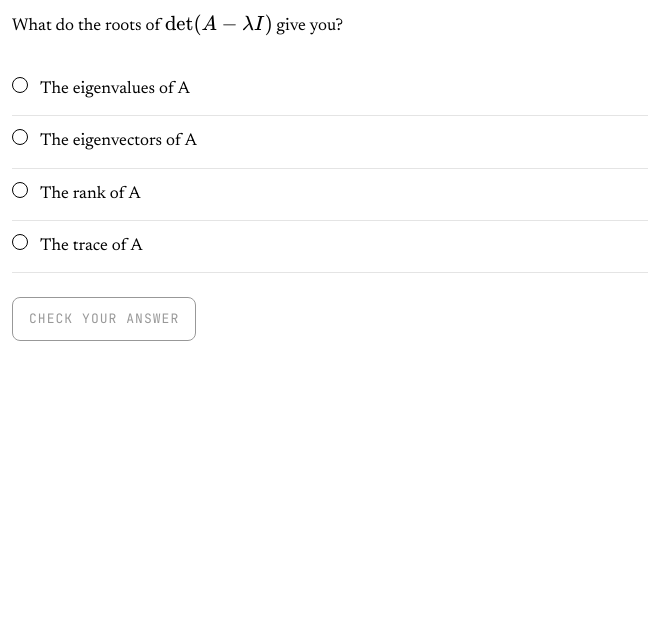
Test: MultipleChoiceArtefact › states the outcome in words and gives a reason for every option
The width and height of the screenshot is (665, 636).
Click the radio button labelled "The rank of A": [20, 190] box [12,182,28,198]
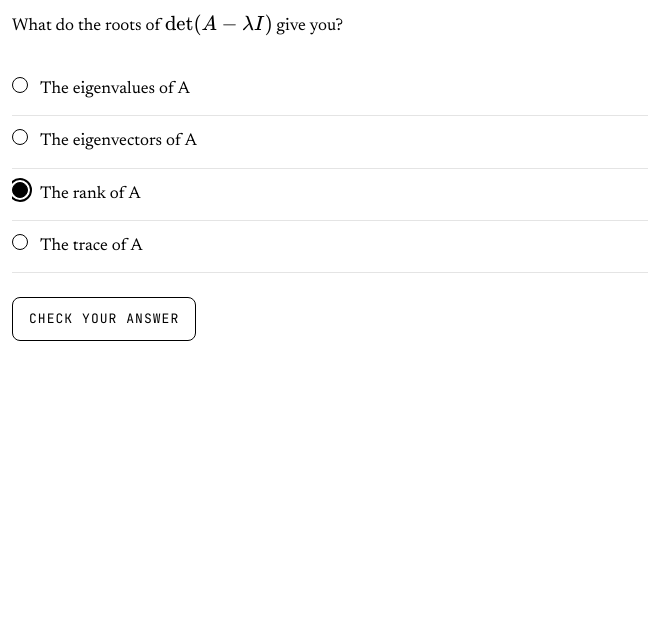
Click the button "Check your answer": [104, 319] box [12,297,196,341]
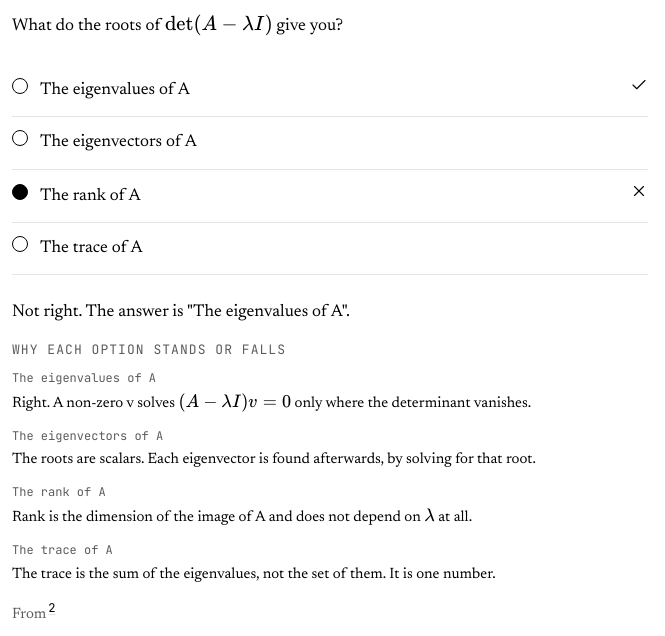
expect the text "only where the determinant vanishes" is shown: met, box [291,396,531,410]
expect the text "Rank is the dimension of the image" is shown: met, box [12,510,424,525]
expect the text "The trace is the sum of the eigenvalues, not the set of them. It is one number." is shown: met, box [12,567,496,582]
